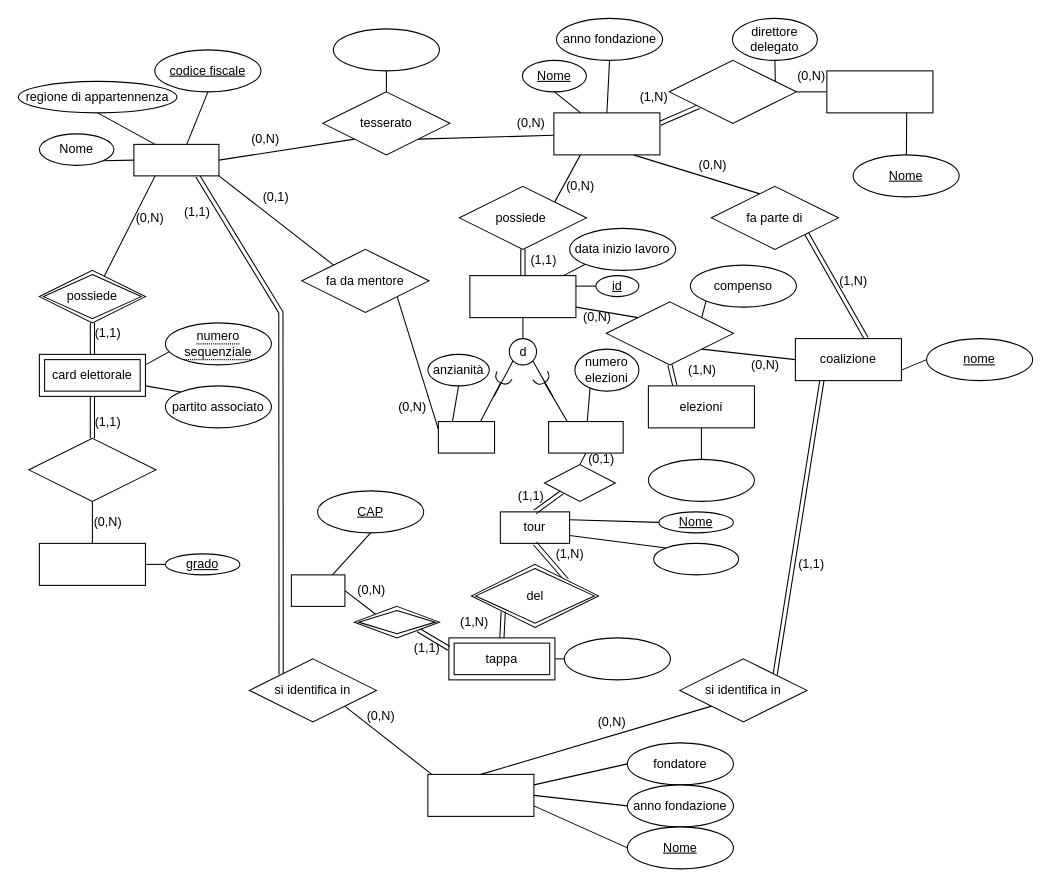
Some shapes in this 1051 by 887 pixel diagram are drawn without their labels. The shapes that lost their labels are listed below. From the top down, each one's centre as x and y in pixels, then its label:
point (385, 49): data tessereamento
point (732, 91): organizzato in
point (879, 91): ala politica
point (606, 133): Partito
point (176, 159): elettore
point (522, 296): membri di comitato
point (669, 333): finanzia
point (466, 437): ufficiale
point (585, 437): candidato
point (92, 469): ha assegnato
point (579, 482): fa un
point (700, 479): id elezioni
point (91, 563): livello
point (696, 558): data inizio
point (317, 590): Luogo
point (396, 621): in un
point (616, 658): numero
point (480, 794): Ideologia
